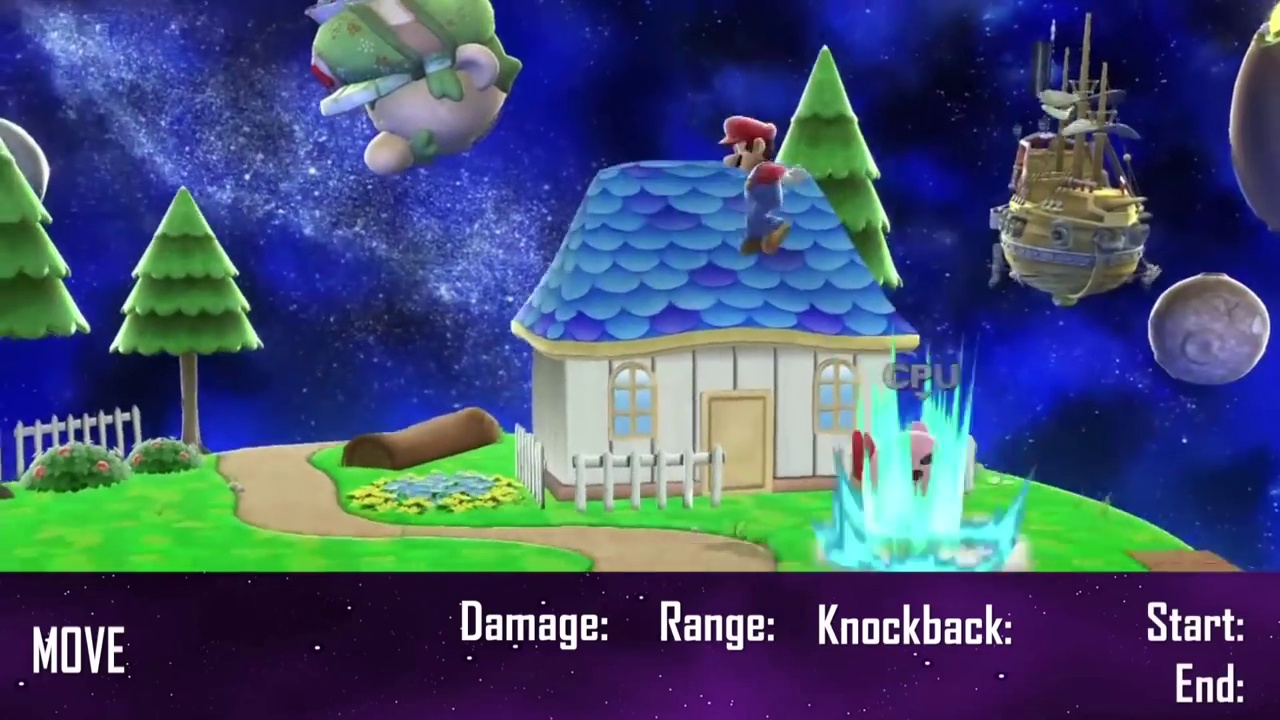Mario: (721, 117, 808, 258)
